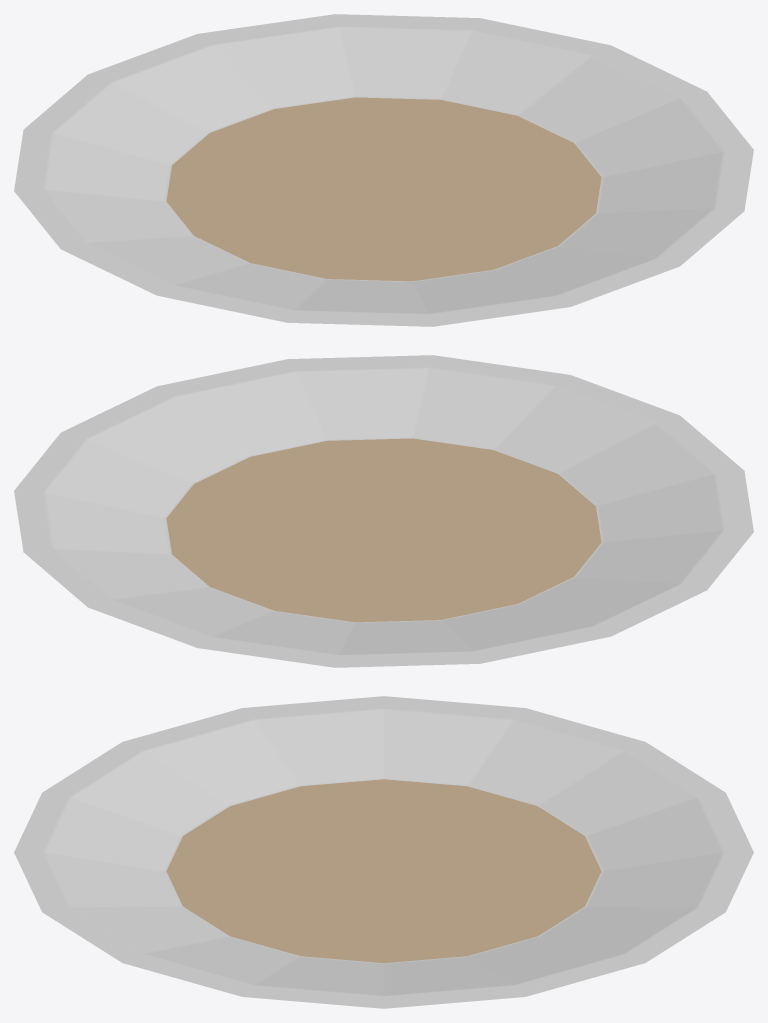
Rendered from Dirty plate.fbx.
3 views of the same model, one above another, from view 1: azimuth 30°, elevation 25°; view 2: azimuth 150°, elevation 25°; view 3: azimuth 270°, elevation 25° (orthographic).
Parts seen in each view (by area): view 1: Dirty plate; view 2: Dirty plate; view 3: Dirty plate.
Boxes of the visible parts, left/top/right/bottom form: Dirty plate: left=14, top=14, right=753, bottom=326; Dirty plate: left=14, top=355, right=753, bottom=667; Dirty plate: left=14, top=696, right=753, bottom=1008.
Bounding box in the file's own units: 25 × 25 × 1.
